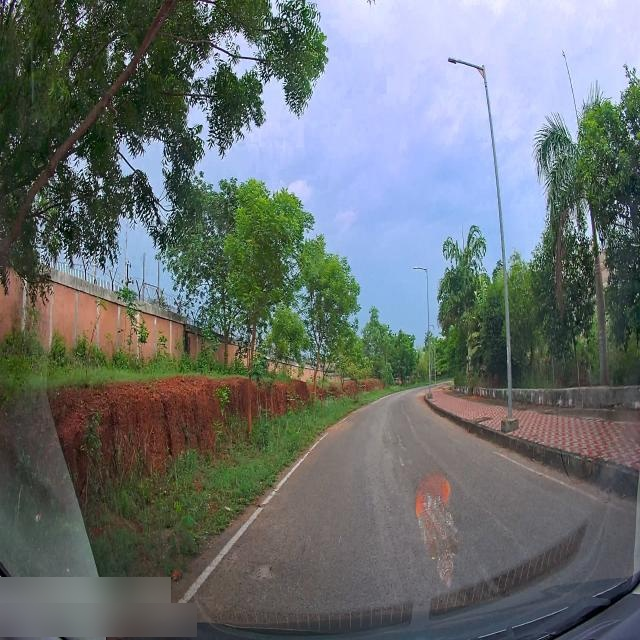pothole: (254, 550, 281, 590), (393, 424, 409, 458)
